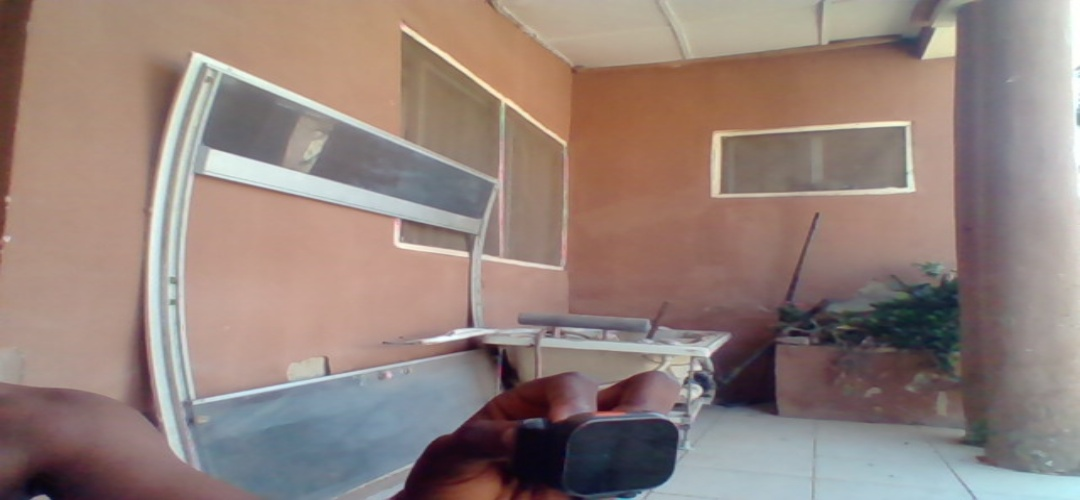smart_watch: (520, 413, 683, 499)
